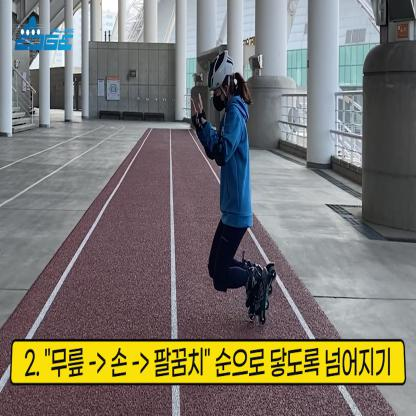Fall_Down: (190, 52, 268, 317)
